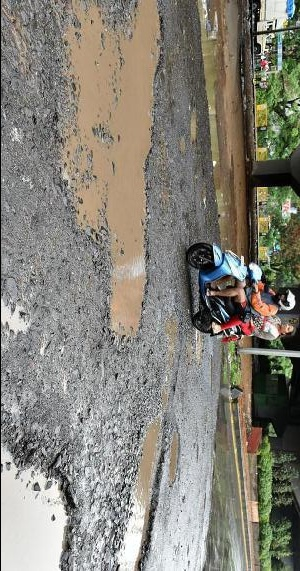pothole: (58, 0, 166, 348), (1, 429, 79, 571), (115, 409, 166, 570), (165, 424, 182, 486)
